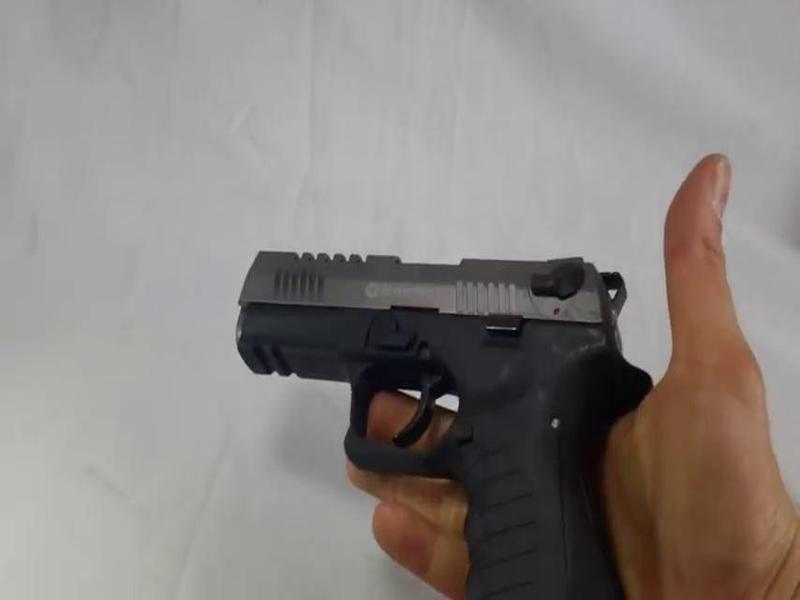Pistola: (199, 166, 657, 573)
